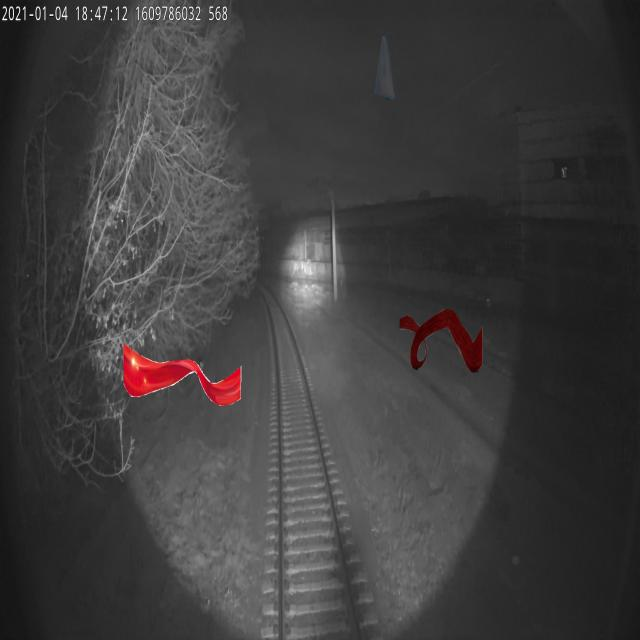floating object: (121, 343, 243, 407), (400, 308, 483, 372)
